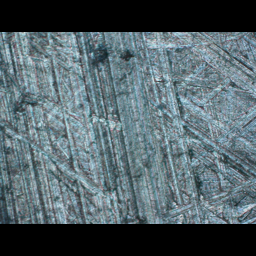d: (142, 36, 256, 224), (0, 84, 126, 196)
